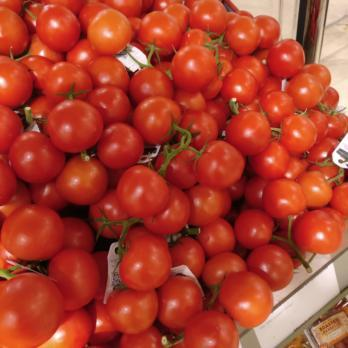Tomato: (1, 2, 232, 344), (235, 18, 288, 313), (296, 63, 348, 252)
